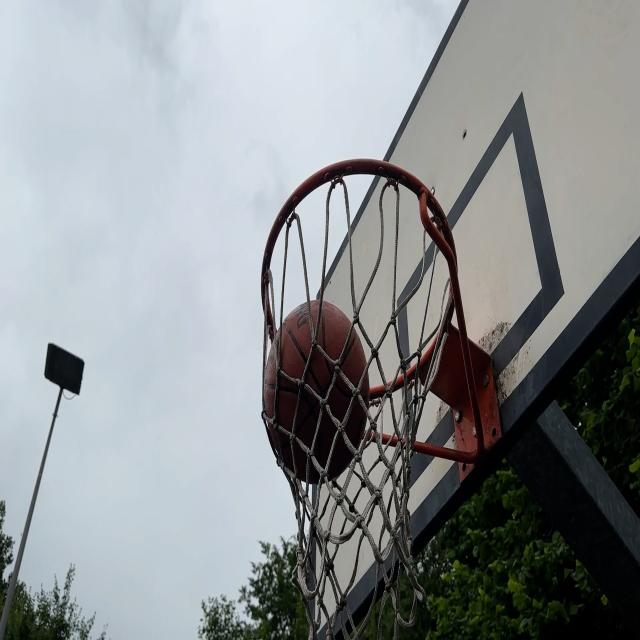Goal: (266, 302, 366, 484)
